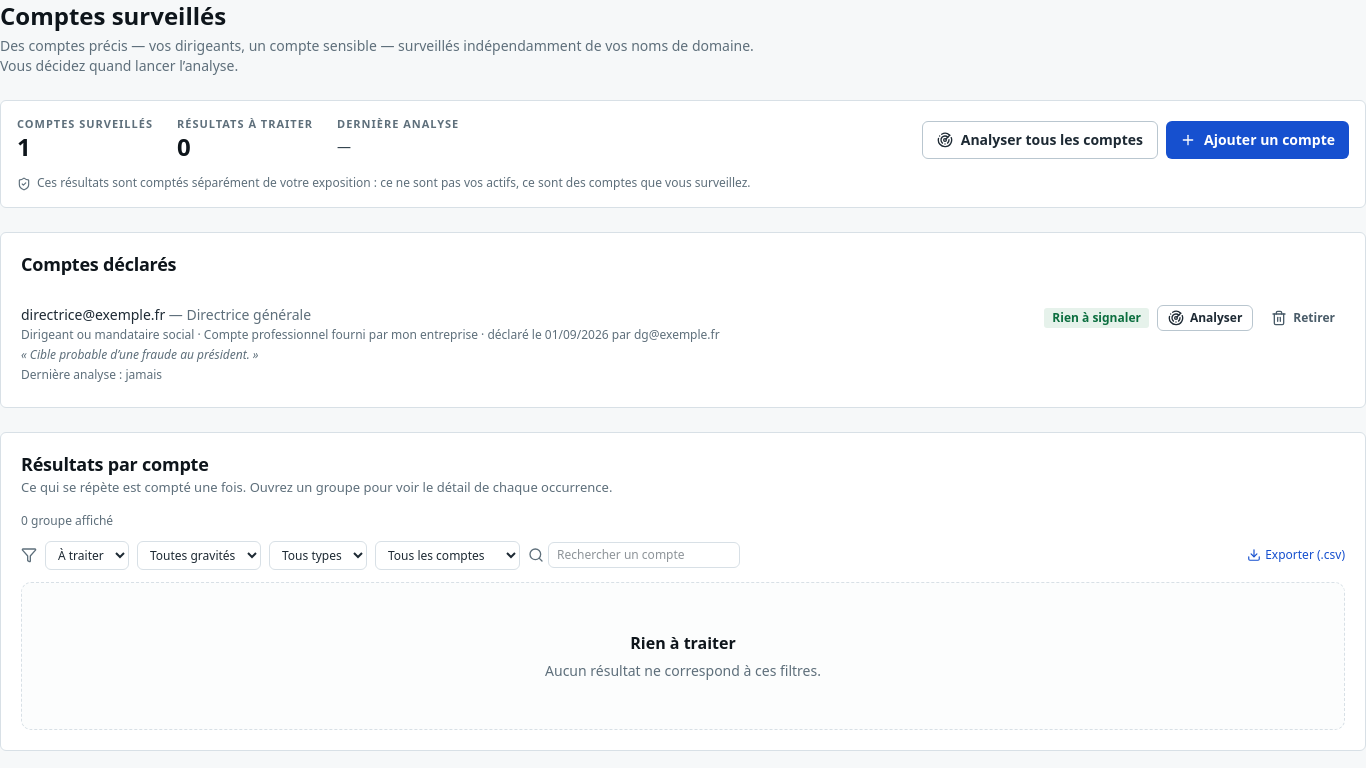
Test: WatchedAccountsPage › affiche la déclaration à signer, et non un renvoi aux conditions générales
This screenshot has width=1366, height=768.
Click the button "Ajouter un compte". click: x=1258, y=140
box: [1166,121,1349,159]
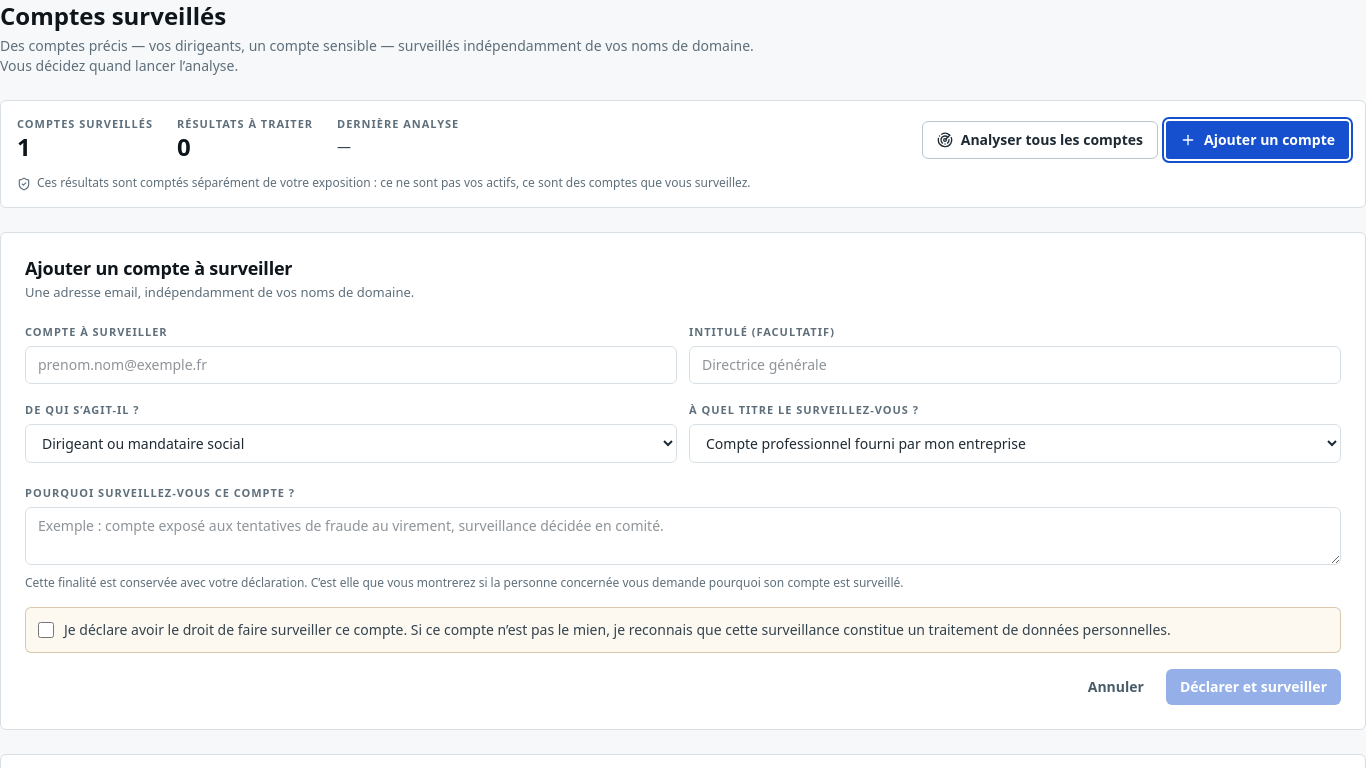
expect the text "Je déclare avoir le droit de faire surve" is shown: met, box [64,620,1171,638]
